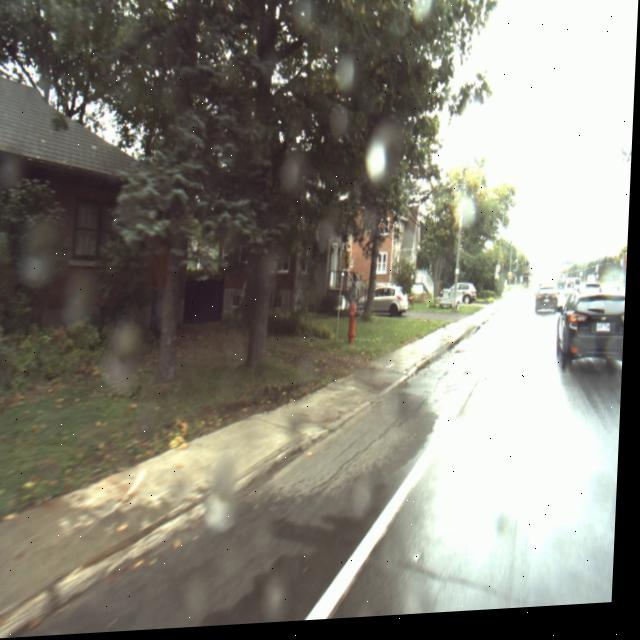car: (561, 292, 628, 380), (363, 287, 414, 326), (446, 287, 481, 314), (539, 293, 562, 324)
